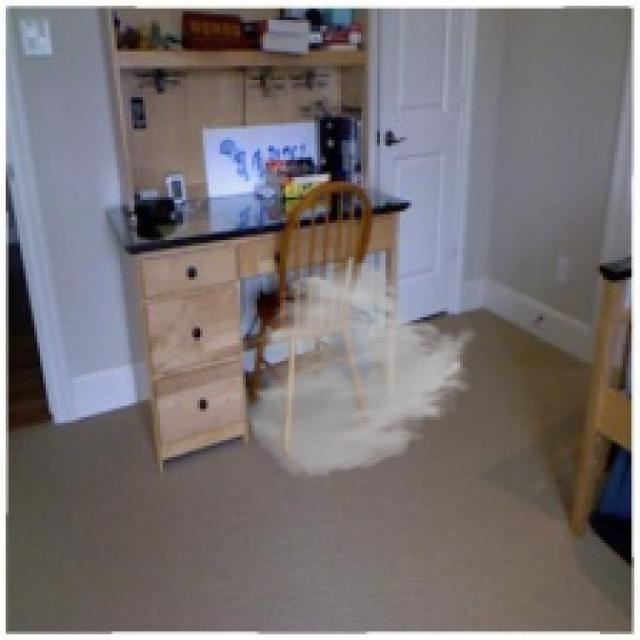Smoke: (243, 257, 480, 480)
